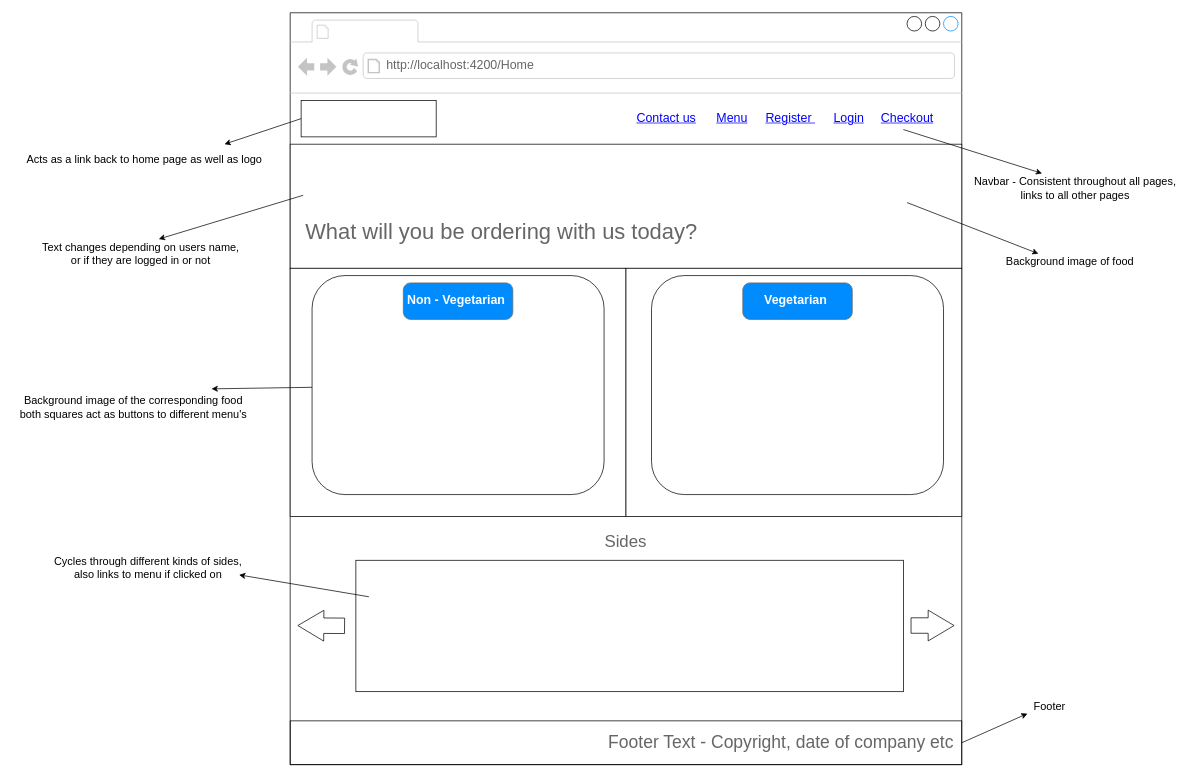
This 1193x777 diagram has some shape labels left out. The centre of each missing label's shape, as x and y in pixels:
"LOGO" belongs at (368,118).
"Page 1" belongs at (373,31).
"Welcome back User!" belongs at (625,205).
